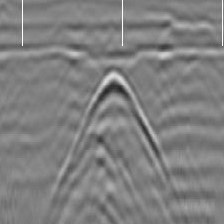Utility: (55, 65, 170, 219)
